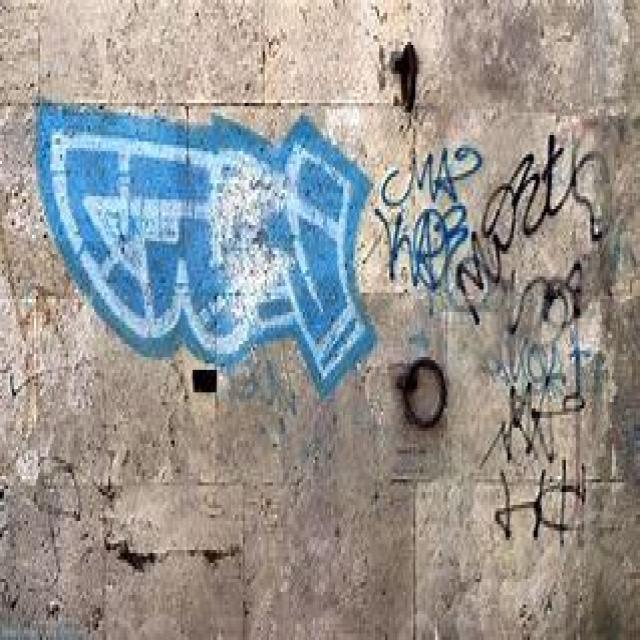nonspitting: (32, 102, 380, 398), (375, 144, 615, 560)
